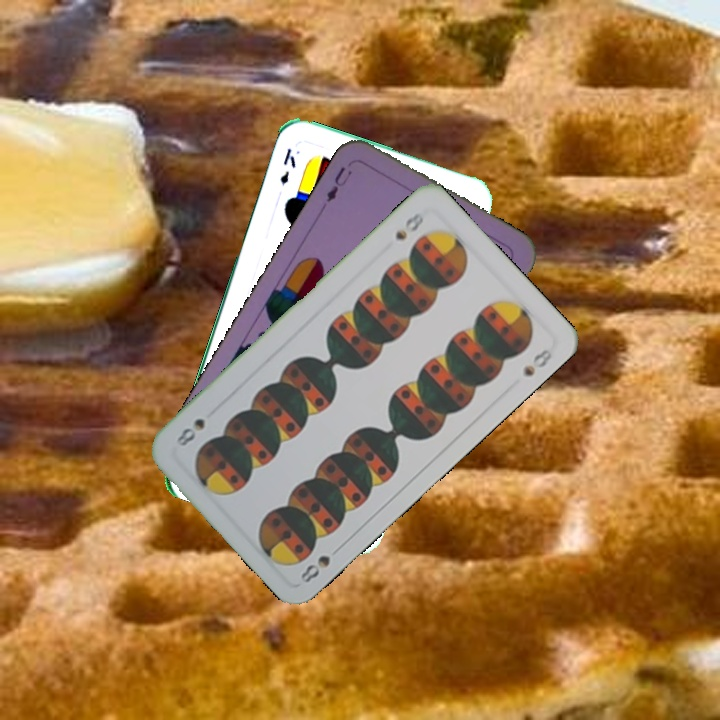EK: (275, 144, 299, 187)
EU: (322, 162, 355, 205)
S8: (296, 541, 345, 586), (390, 208, 428, 243)
